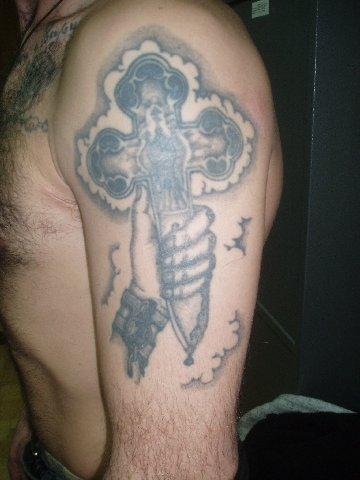tatu9_krest: (89, 38, 245, 353)
